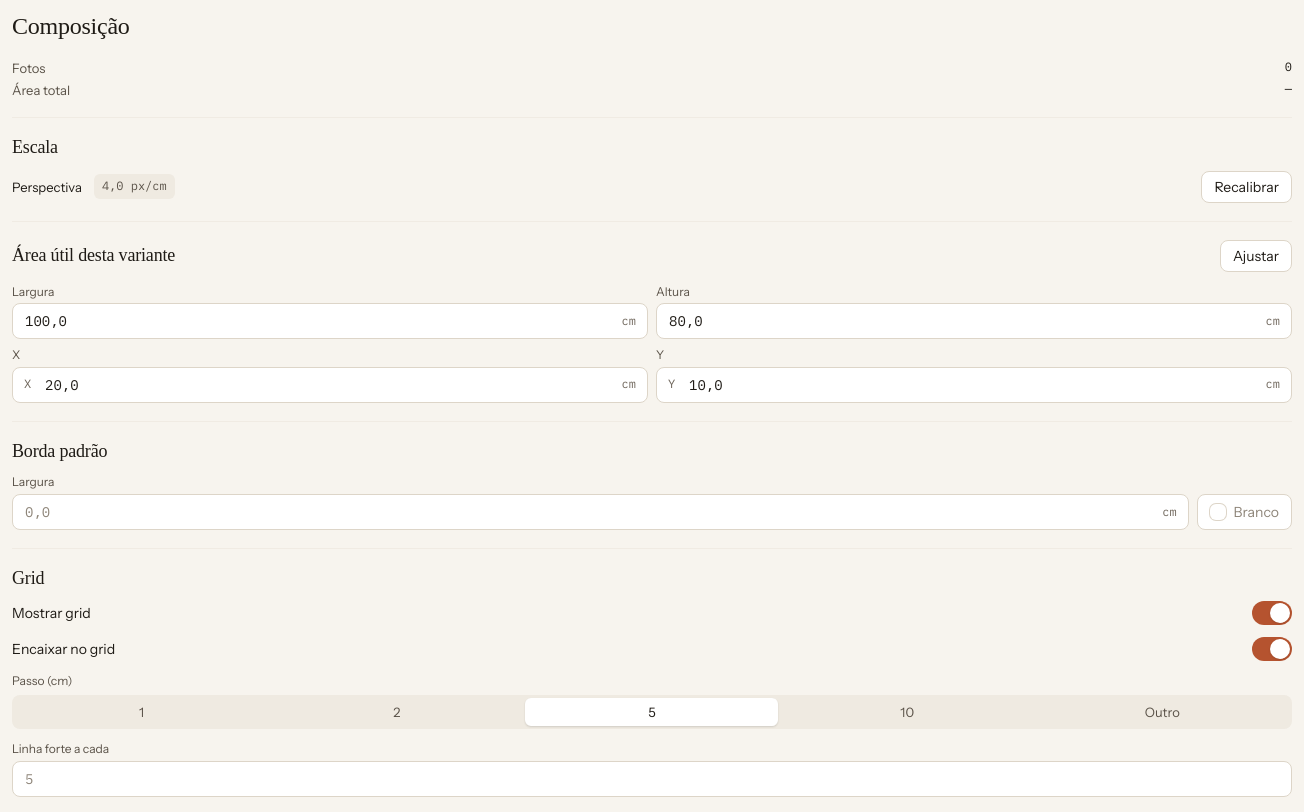
Test: Grid (A-08, A-15) › passo personalizado fora da faixa não aplica
This screenshot has width=1304, height=812.
Click the radio button labelled "Outro": (1162, 712) [1036,698,1289,726]
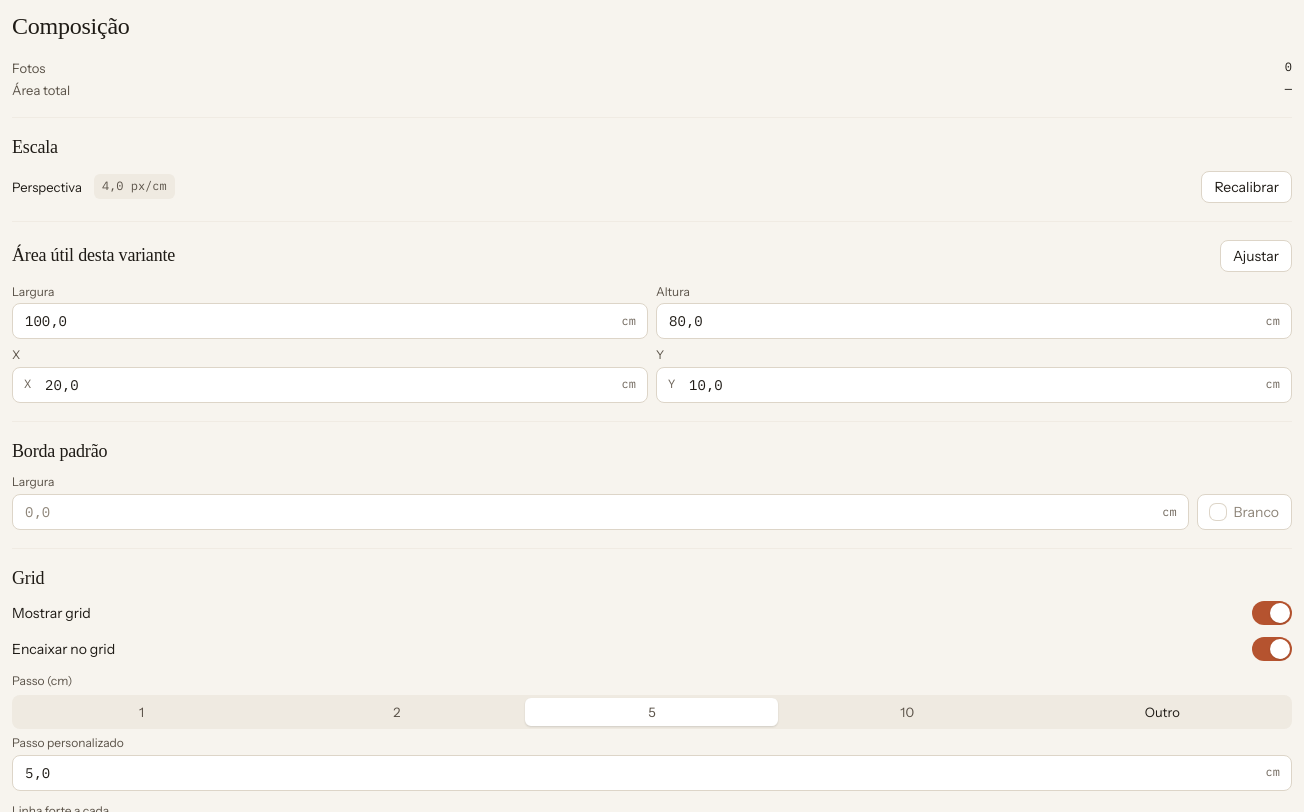
Replace the text in the field labelled "Passo personalizado" with "0,4": (652, 773) [12,755,1292,791]
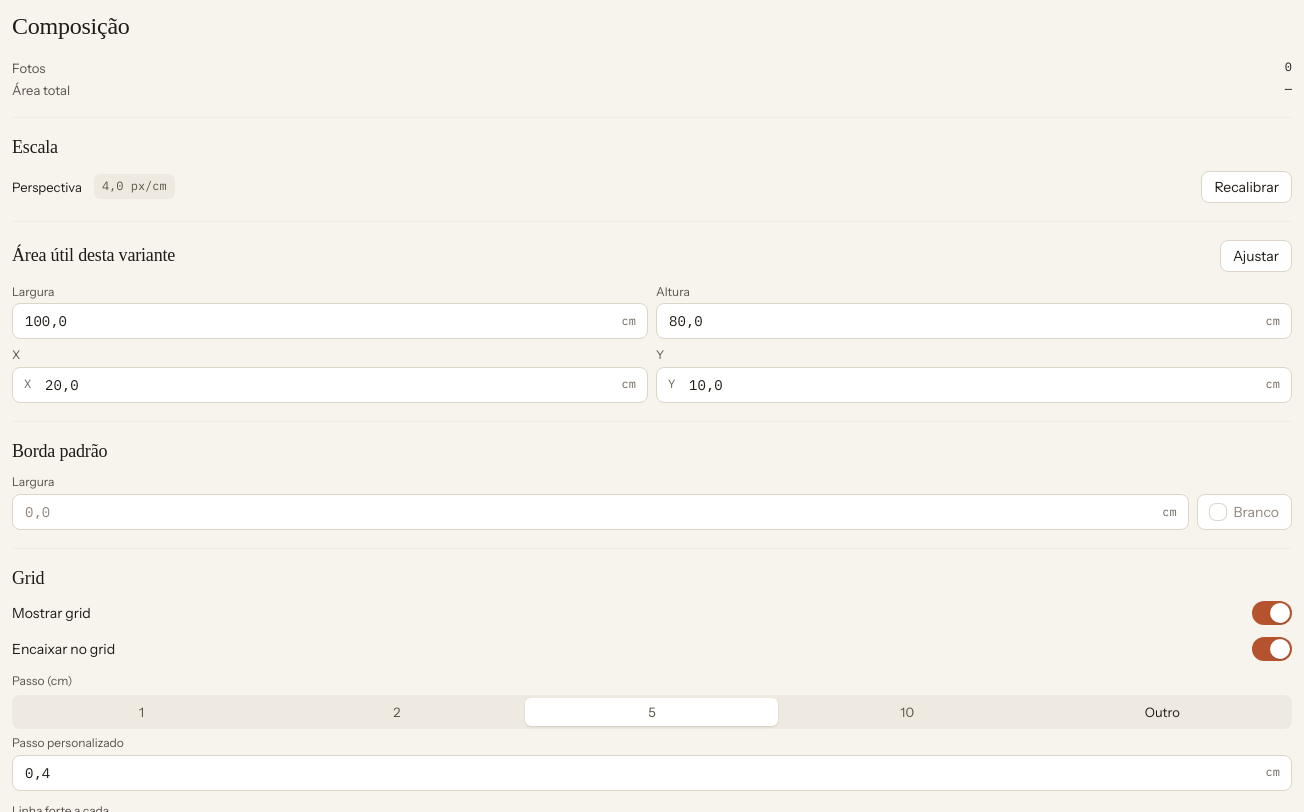
Press Enter in the field labelled "Passo personalizado", box [12,755,1292,791]
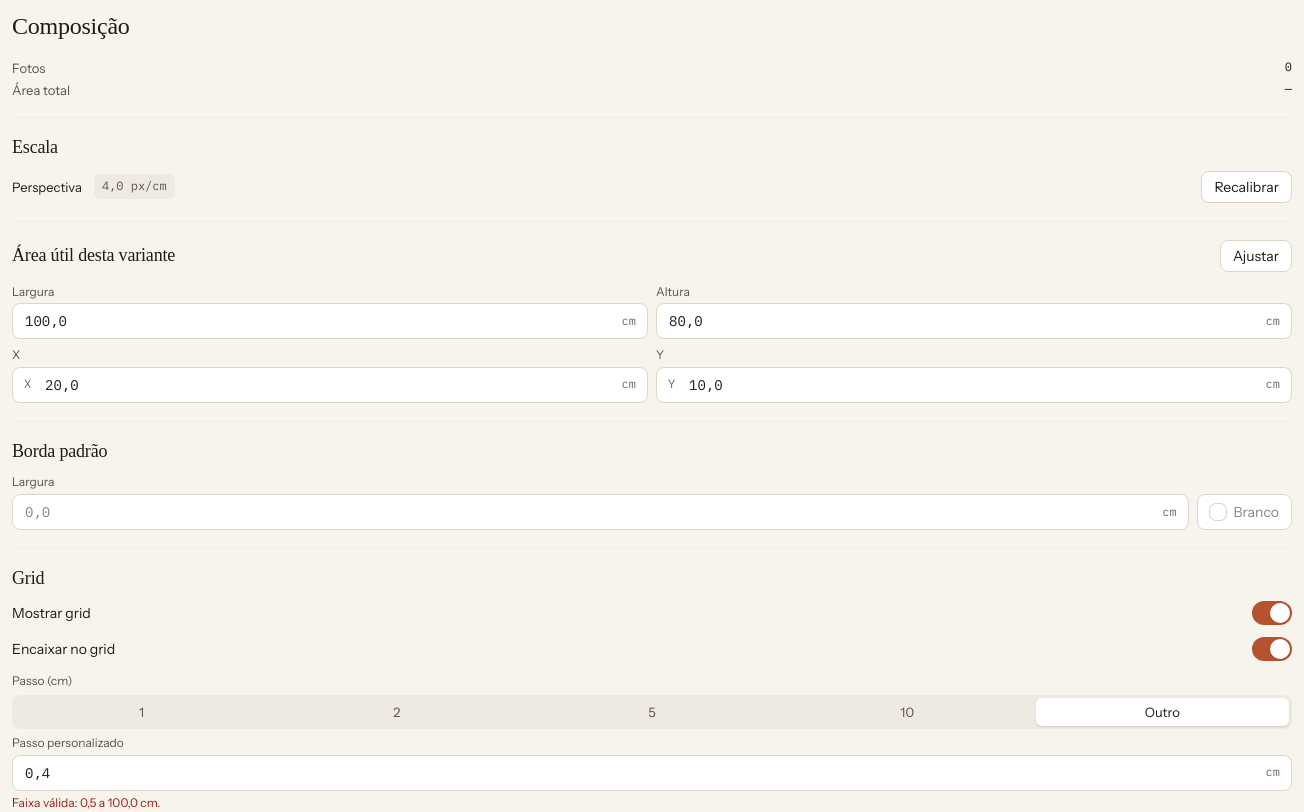
Result: the text "Faixa válida: 0,5 a 100,0 cm." is shown at [12,795,160,810]
